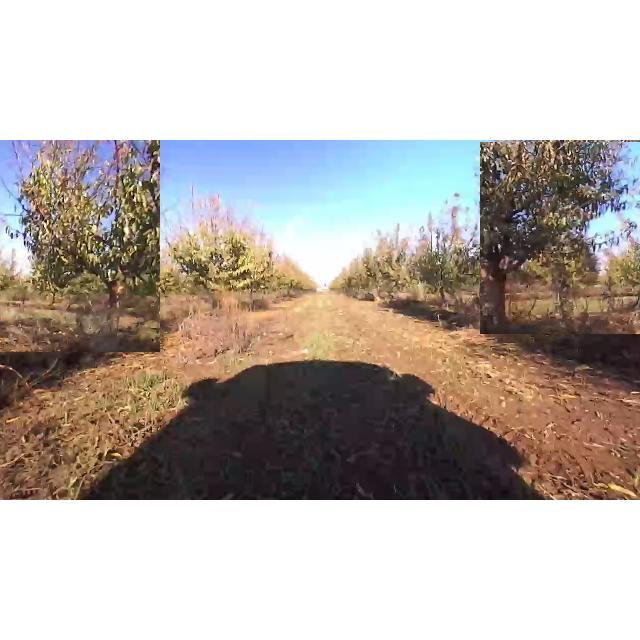tree: (0, 140, 160, 352), (480, 142, 640, 334), (162, 201, 272, 315), (407, 203, 517, 307), (362, 224, 426, 306)
